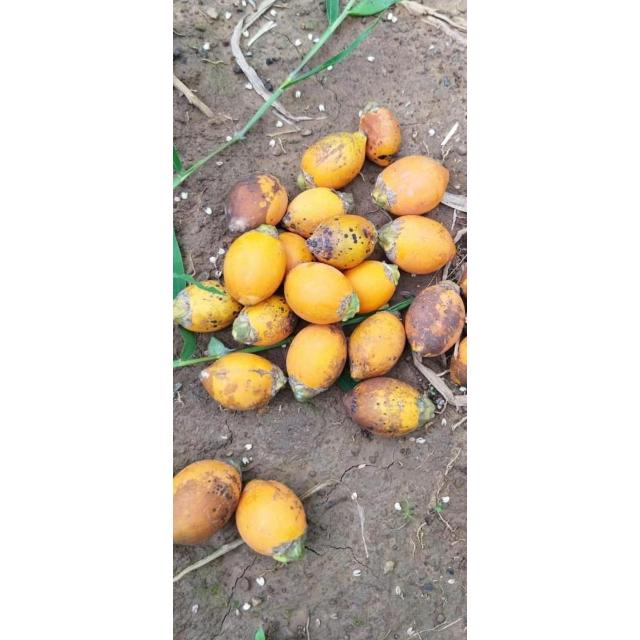good: (345, 378, 436, 437), (378, 215, 457, 278), (224, 230, 286, 308), (372, 156, 450, 218), (200, 352, 276, 414), (406, 280, 466, 358), (286, 326, 347, 400), (285, 262, 352, 328), (306, 214, 378, 271), (350, 311, 406, 384), (173, 279, 240, 336), (302, 132, 366, 191), (228, 176, 290, 236), (280, 188, 347, 240), (342, 258, 400, 317), (232, 296, 290, 347)
